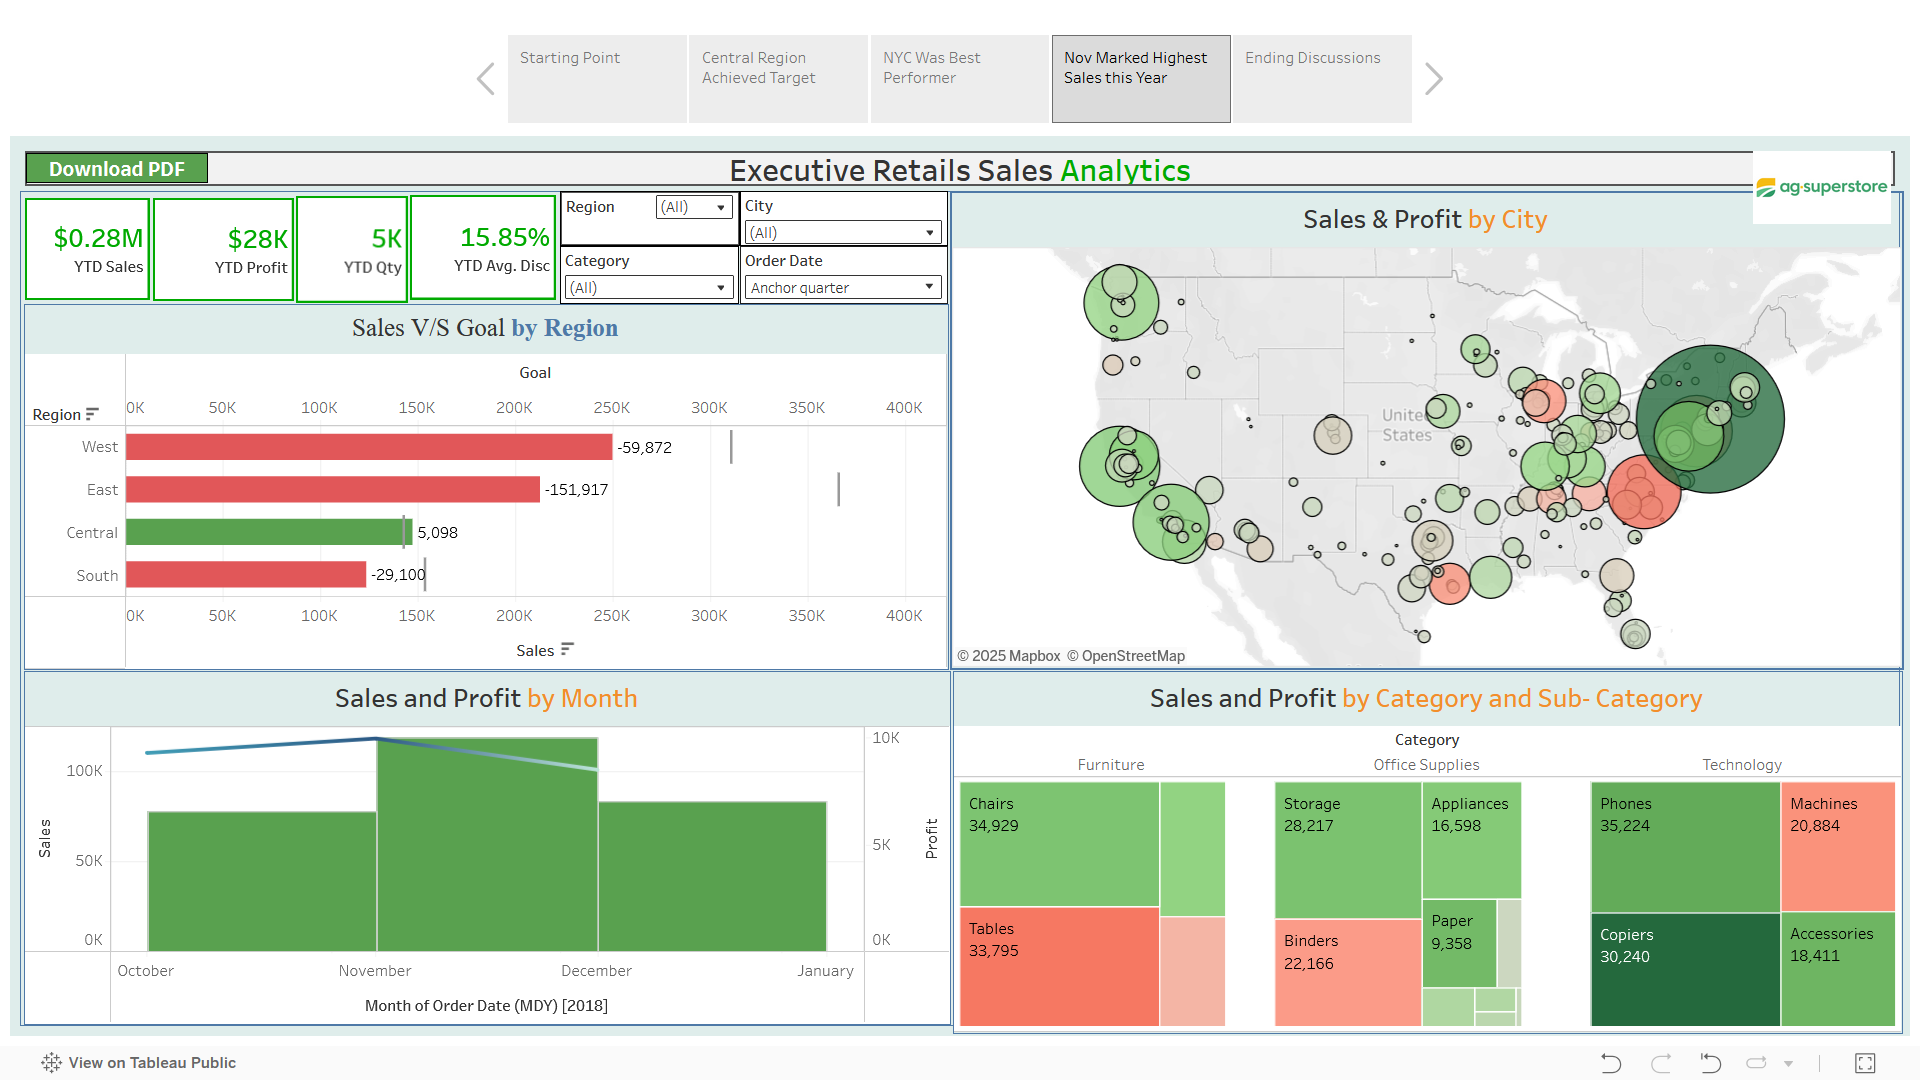

The page's visual inventory and layout, read from the dashboard file:
{"tool":"tableau","page":{"name":"Dashboard 1","canvas":[1000,1000],"units":"permille","ordinal":0},"visuals":[{"type":"title","box":[4.8,10,990.4,49.9]},{"type":"dashboard-object","box":[8.4,17.5,95.6,33.7]},{"type":"filter","title":"RegionSalesvsGoal","param":"[federated.1u02box1ioevtw1h0fczs0g7tg69].[none:Region:nk]","box":[289.3,61.2,95,61.2]},{"type":"filter","title":"Sales&PrftByCity","param":"[federated.1u02box1ioevtw1h0fczs0g7tg69].[none:City:nk]","box":[384.3,61.2,109.4,61.2]},{"type":"worksheet","title":"Sales&PrftByCity","mark":"Automatic","box":[494.9,61.2,502.1,531.8]},{"type":"worksheet","title":"Discount","mark":"Automatic","box":[209.8,63.7,78.3,118.6]},{"type":"worksheet","title":"Qty","mark":"Automatic","box":[150,64.9,59.2,119.9]},{"type":"worksheet","title":"SalesCard","mark":"Automatic","box":[7.2,66.2,66.4,117.4]},{"type":"worksheet","title":"Profit","mark":"Automatic","box":[74.1,66.2,75.3,117.4]},{"type":"filter","title":"TreeMap","param":"[federated.1u02box1ioevtw1h0fczs0g7tg69].[none:Category:nk]","box":[289.3,122.4,94.4,63.7]},{"type":"filter","title":"Time Series","param":"[federated.1u02box1ioevtw1h0fczs0g7tg69].[tmn:Order Date (MDY):qk]","box":[384.3,122.4,109.4,63.7]},{"type":"worksheet","title":"RegionSalesvsGoal","mark":"Automatic","rows":["Region"],"cols":["Sales","Goal"],"box":[7.2,186,487,407]},{"type":"worksheet","title":"Time Series","mark":"Automatic","rows":["Sales","Profit"],"cols":["Order Date (MDY)"],"box":[7.2,594.3,488.2,393.3]},{"type":"worksheet","title":"TreeMap","mark":"Automatic","cols":["Category"],"box":[496.1,594.3,499.7,403.2]}]}

Visuals, with their boxes on the dashboard's canvas, which has no fixed pixel size, in thousandths of its width and height (x1, y1, x2, y2). These are canvas units, not pixel positions in the 1920x1080 screenshot, which may show the page scaled, cropped or inside an application window:
title: (5, 10, 995, 60)
dashboard-object: (8, 18, 104, 51)
"RegionSalesvsGoal" filter: (289, 61, 384, 122)
"Sales&PrftByCity" filter: (384, 61, 494, 122)
"Sales&PrftByCity" worksheet: (495, 61, 997, 593)
"Discount" worksheet: (210, 64, 288, 182)
"Qty" worksheet: (150, 65, 209, 185)
"SalesCard" worksheet: (7, 66, 74, 184)
"Profit" worksheet: (74, 66, 149, 184)
"TreeMap" filter: (289, 122, 384, 186)
"Time Series" filter: (384, 122, 494, 186)
"RegionSalesvsGoal" worksheet: (7, 186, 494, 593)
"Time Series" worksheet: (7, 594, 495, 988)
"TreeMap" worksheet: (496, 594, 996, 998)
